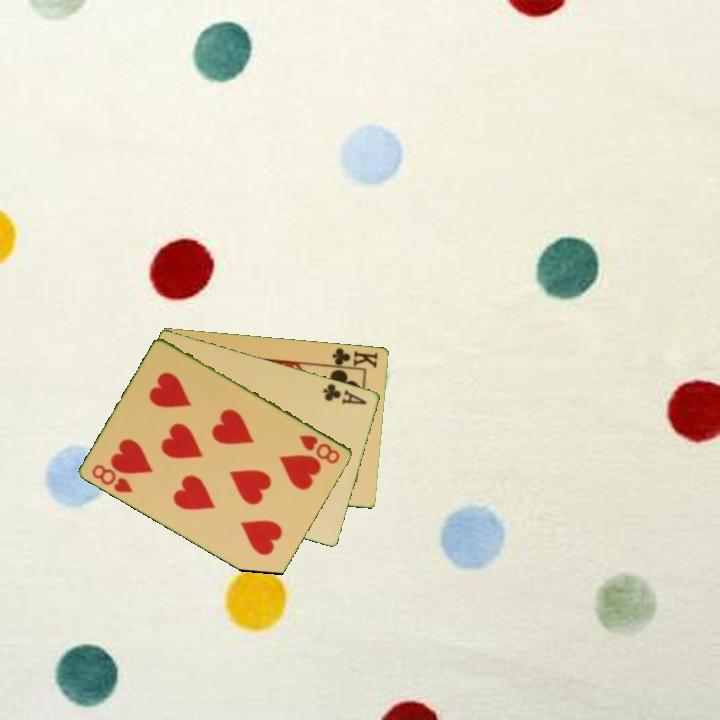8h: (296, 431, 343, 467), (89, 461, 136, 496)
Ac: (320, 380, 370, 407)
Kc: (326, 344, 381, 371)
